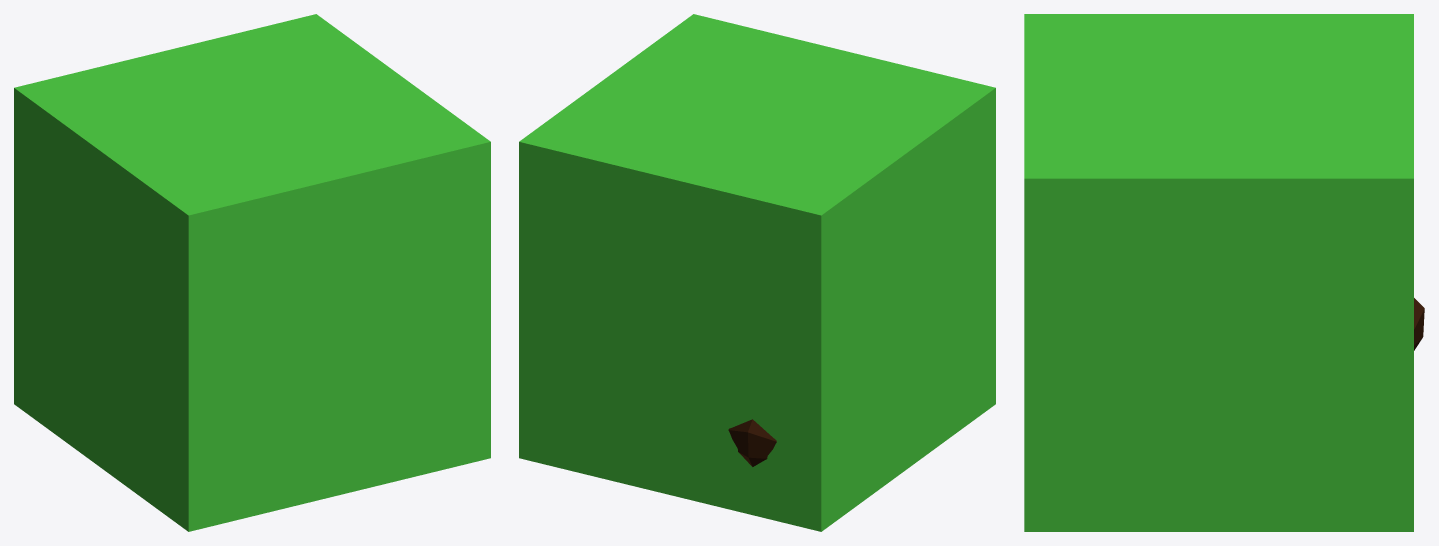
The model's file is SuzanneCubedColor.obj.
The picture shows the model from 3 angles, left to right: view 1: azimuth 30°, elevation 25°; view 2: azimuth 150°, elevation 25°; view 3: azimuth 270°, elevation 25°; orthographic projection. The views are drawn at different scales.
Visible parts, largest first — view 1: Cube; view 2: Cube, Suzanne; view 3: Cube.
Boxes of the visible parts, bbox=[...] form: Cube: bbox=[14, 14, 490, 531]; Cube: bbox=[519, 14, 995, 531]; Suzanne: bbox=[728, 419, 776, 466]; Cube: bbox=[1024, 14, 1413, 531].
Size of the model in its own units: 4 by 4 by 4.11.
